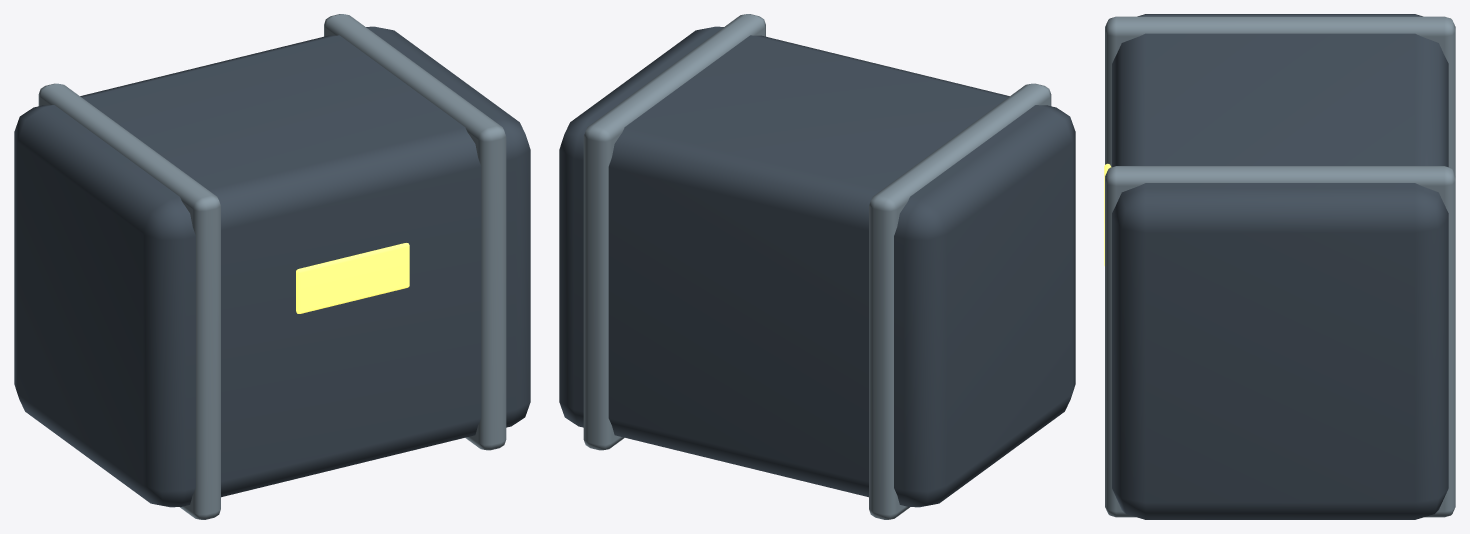
Rendered from Cargo.fbx.
3 renders of one model, left to right at view 1: azimuth 30°, elevation 25°; view 2: azimuth 150°, elevation 25°; view 3: azimuth 270°, elevation 25°, orthographic. The views are drawn at different scales.
Parts seen in each view (by area): view 1: Cargo_Graphite, Cargo_Steel, Cargo_Amber; view 2: Cargo_Graphite, Cargo_Steel; view 3: Cargo_Graphite, Cargo_Steel.
Boxes of the visible parts, x1,y1,x2,y2 form: Cargo_Graphite: (14,26,530,507); Cargo_Steel: (38,14,506,519); Cargo_Amber: (296,243,409,313); Cargo_Graphite: (559,26,1075,507); Cargo_Steel: (583,14,1051,519); Cargo_Graphite: (1112,14,1448,519); Cargo_Steel: (1105,16,1455,517).
Bounding box in the file's own units: 170 × 136 × 125.
